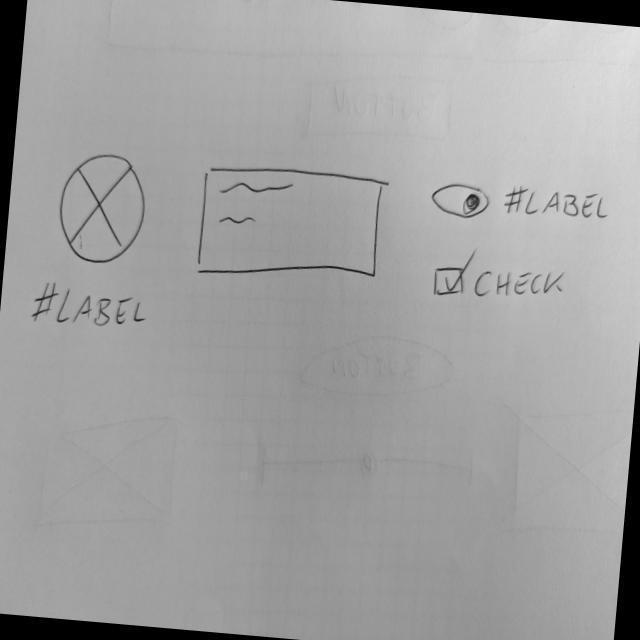checkbox: (429, 253, 572, 311)
image: (54, 145, 153, 270)
label: (30, 274, 155, 340), (500, 180, 614, 230)
textarea: (194, 161, 387, 292)
toggle: (429, 180, 493, 222)
